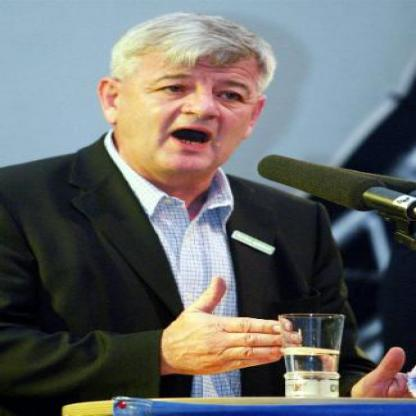face: (119, 20, 266, 178)
